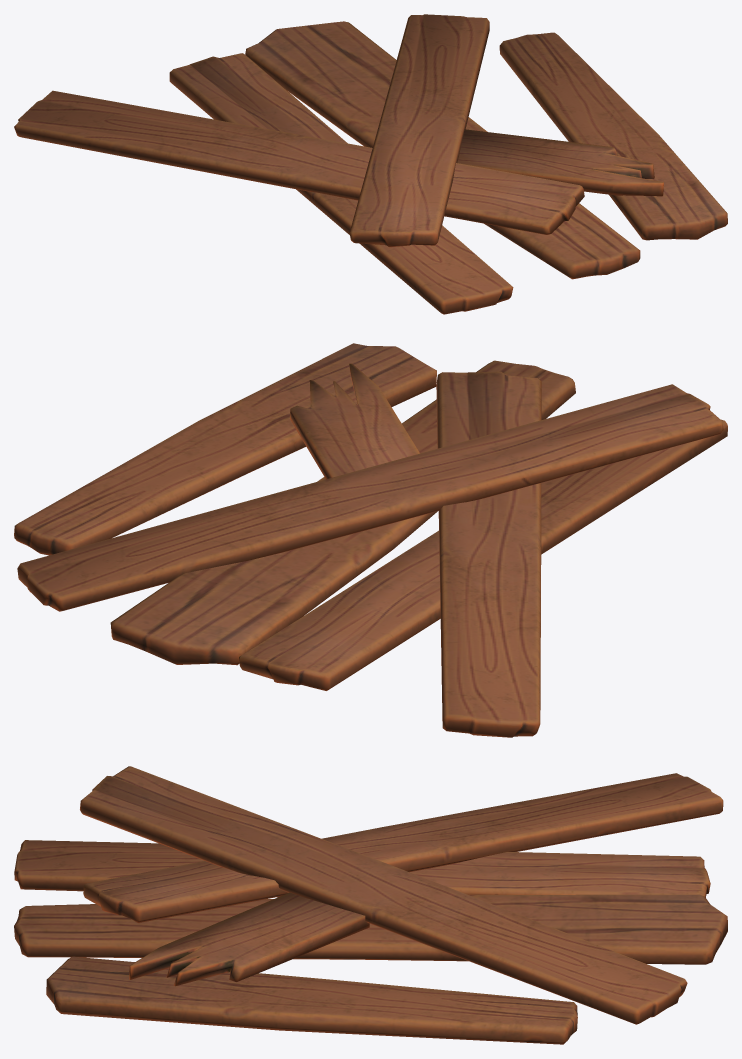
File: SM_Woods.glb
3 views of the same model, one above another, from view 1: azimuth 30°, elevation 25°; view 2: azimuth 150°, elevation 25°; view 3: azimuth 270°, elevation 25° (orthographic). The views are drawn at different scales.
Parts seen in each view (by area): view 1: SM_Woods_LOD0; view 2: SM_Woods_LOD0; view 3: SM_Woods_LOD0.
Boxes of the visible parts, left/top/right/bottom form: SM_Woods_LOD0: left=14, top=14, right=727, bottom=314; SM_Woods_LOD0: left=14, top=343, right=727, bottom=737; SM_Woods_LOD0: left=14, top=766, right=727, bottom=1044.
Bounding box in the file's own units: 0.7179 × 0.0908 × 0.8076.
Materials: 1 (1 with a texture image).
